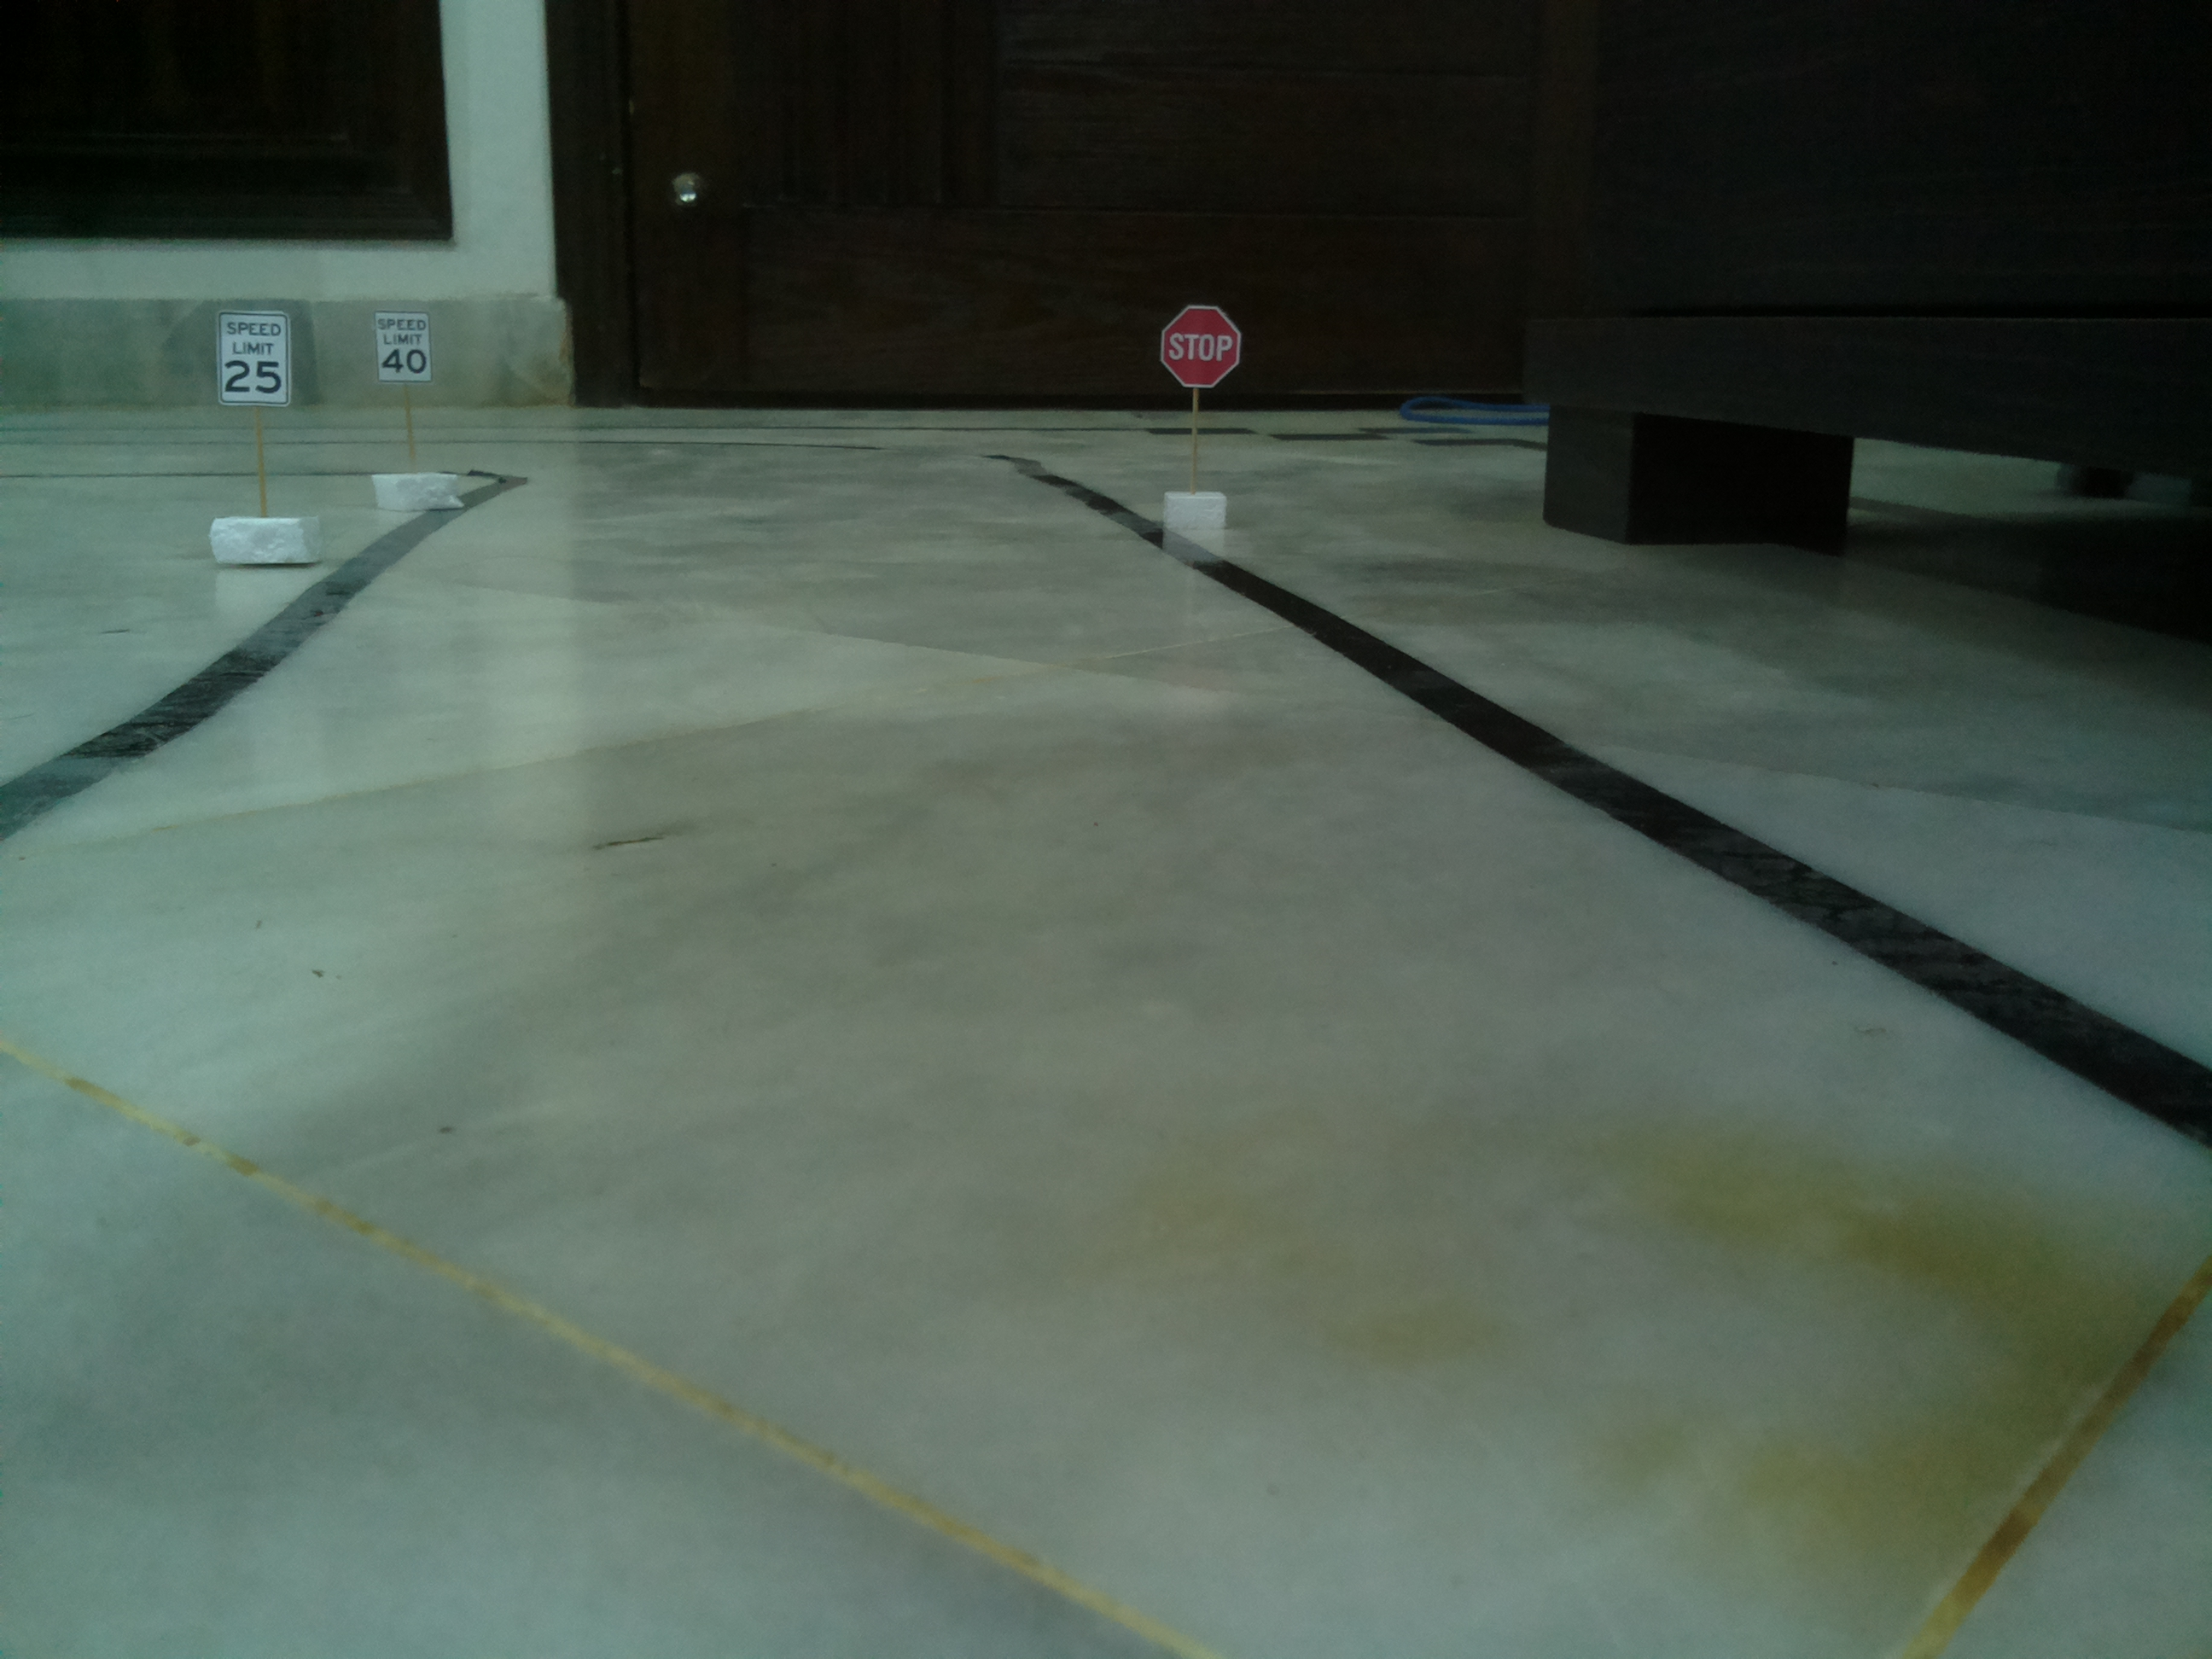Speed limit 25: (214, 305, 296, 410)
Speed limit 40: (373, 308, 442, 392)
Stop sign: (1158, 293, 1244, 396)
